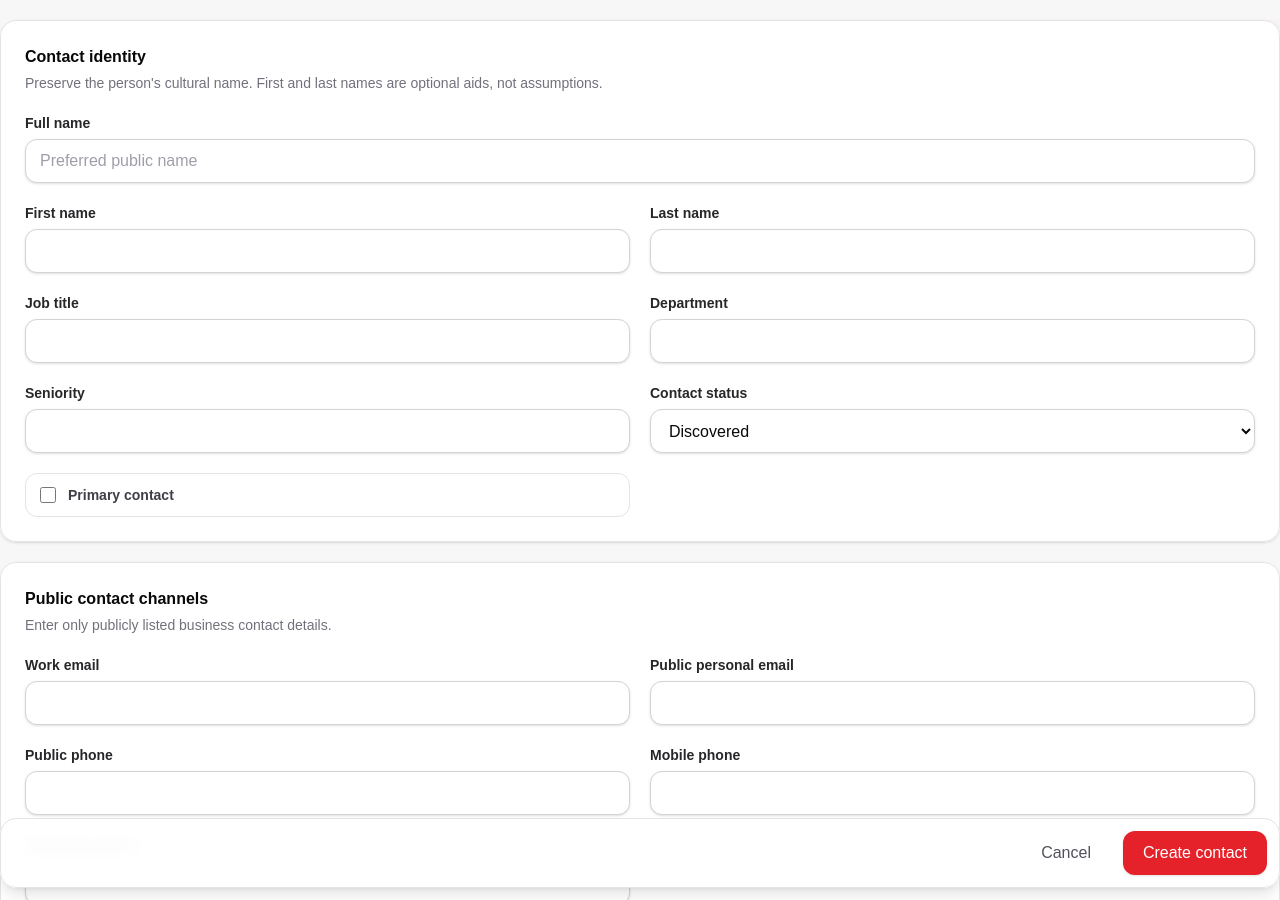
Test: Contacts UI › shows changed-payload confirmation rejection and allows revision
Click the button "Create contact" at (1195, 853), box left=1123, top=831, right=1267, bottom=875
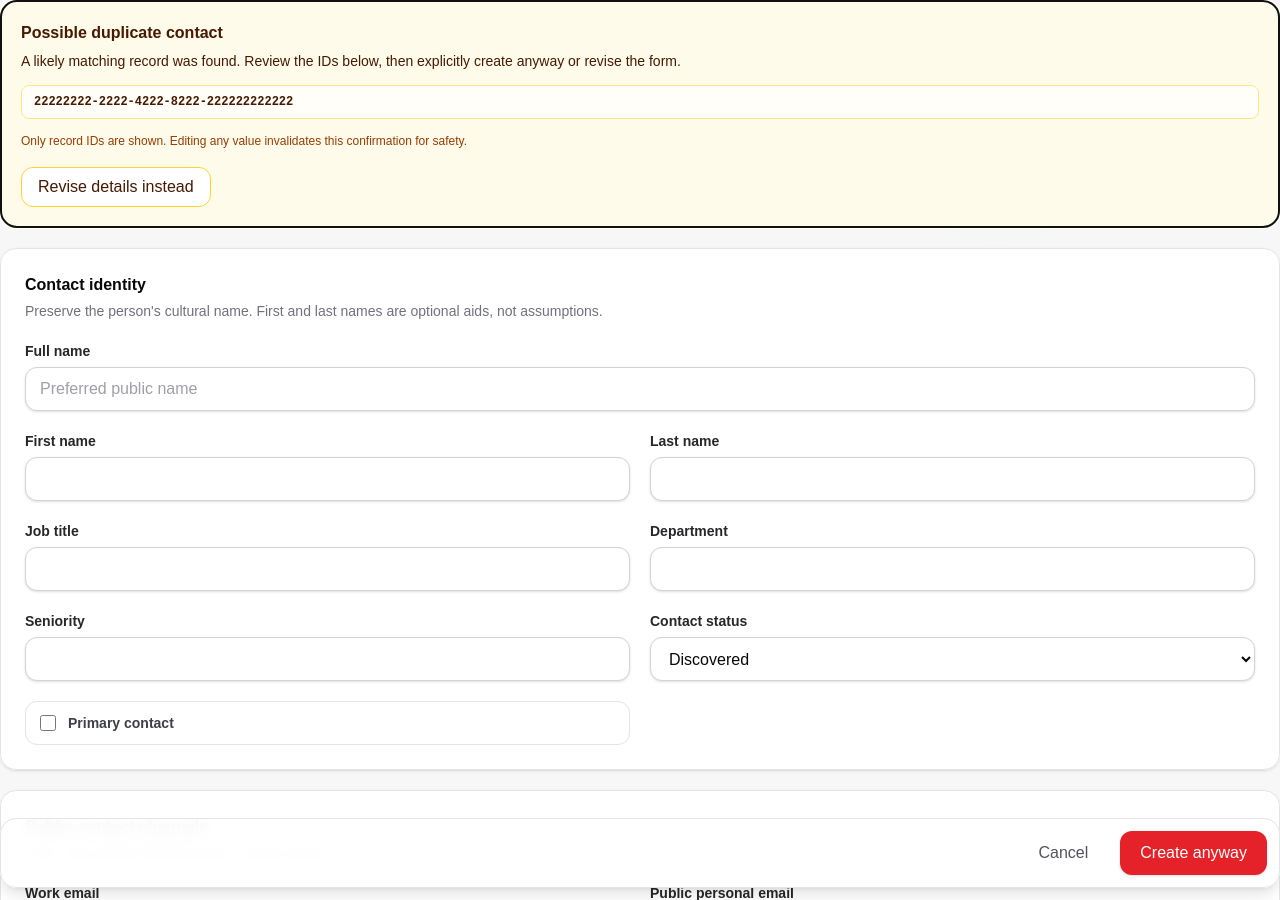
Type " Changed" into the field labelled "Full name" at (640, 389), box left=25, top=367, right=1255, bottom=411
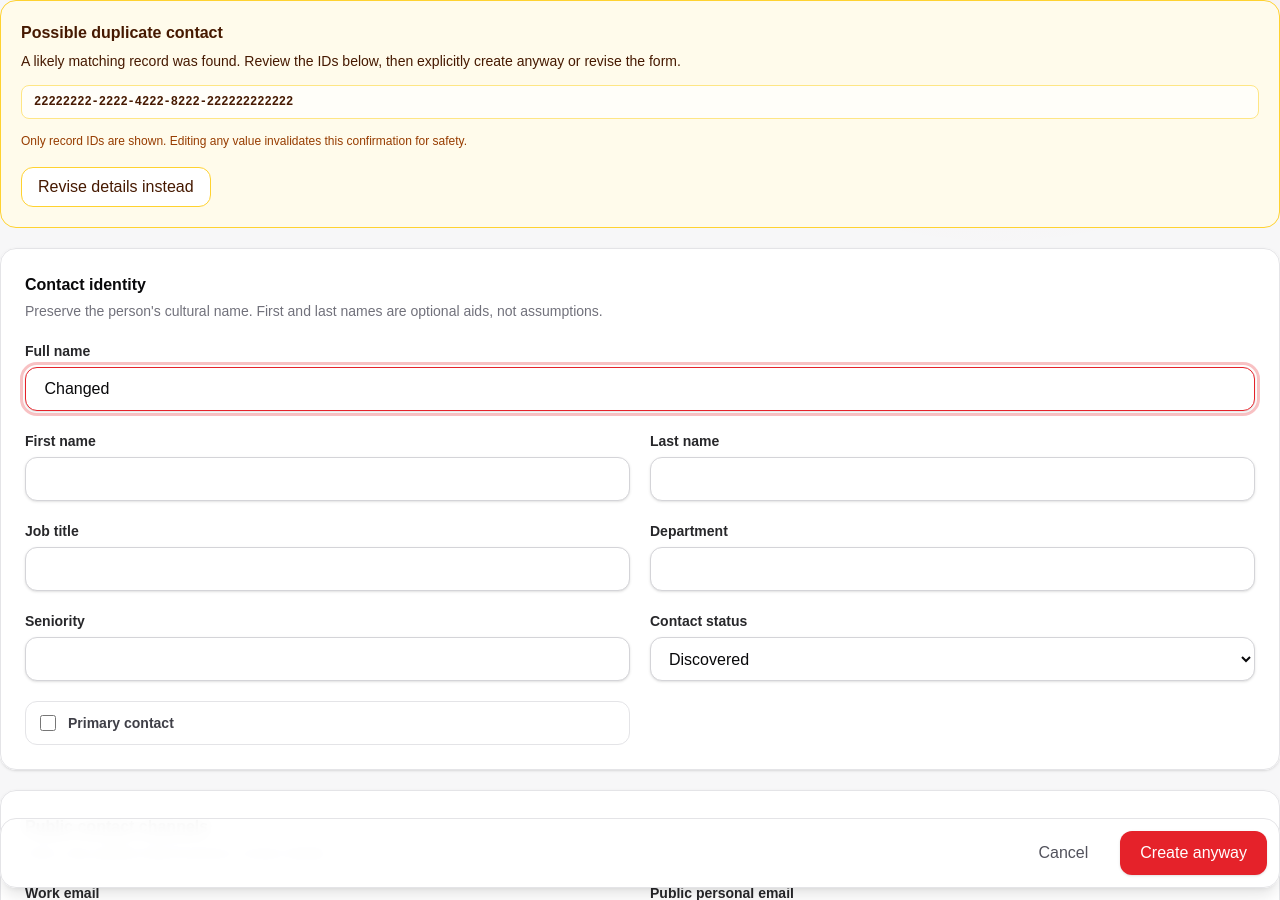
Click the button "Create anyway" at (1194, 853), box left=1120, top=831, right=1267, bottom=875
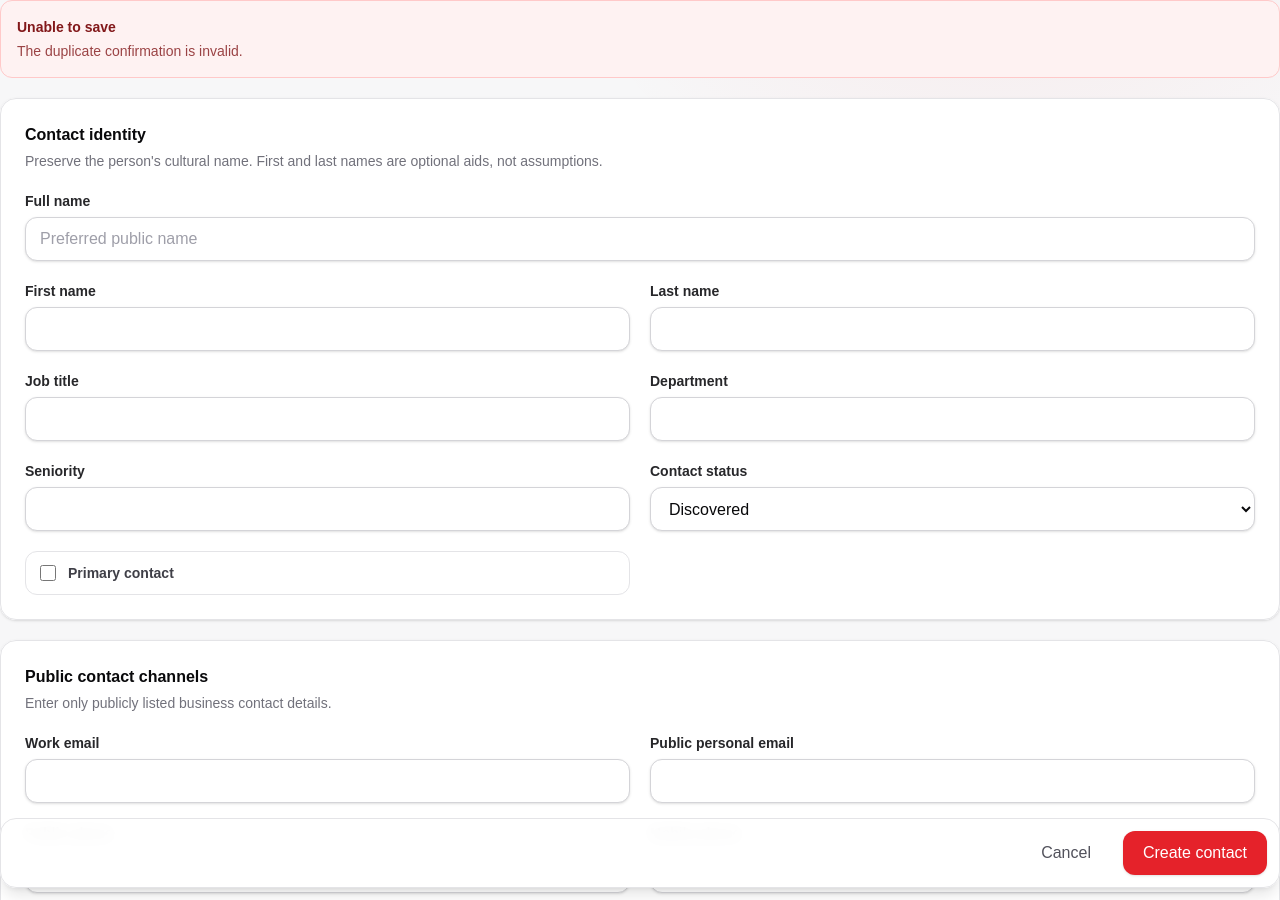
Expected: the text "The duplicate confirmation is invalid." is shown, left=17, top=43, right=243, bottom=59
